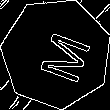M_W: (25, 23, 88, 84)
